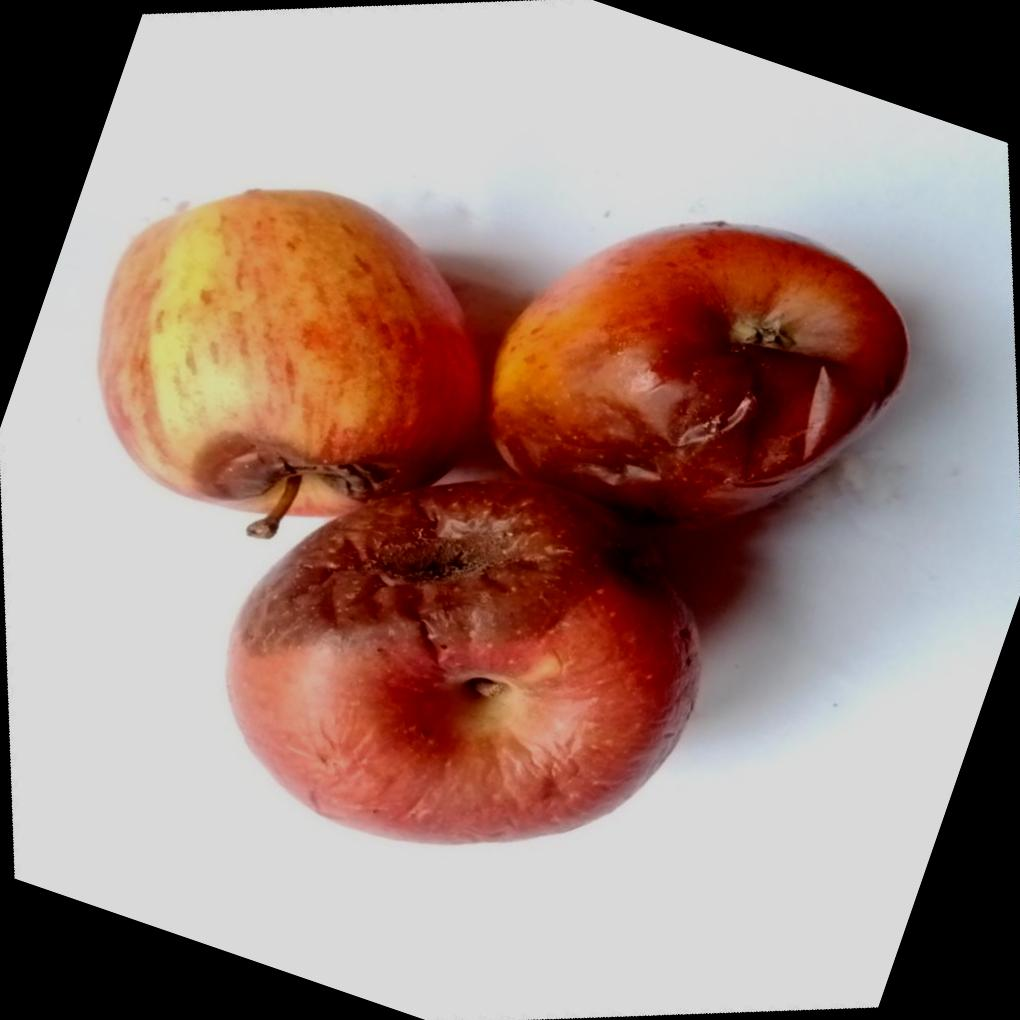FreshOrange: (97, 185, 908, 842)
